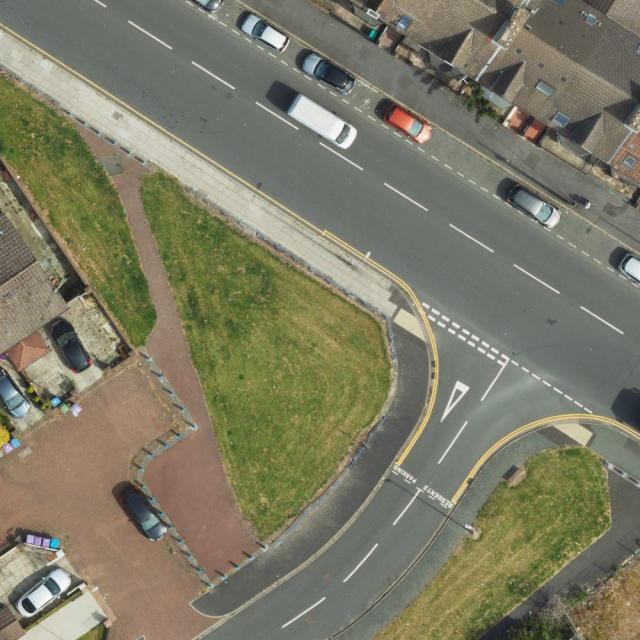roof: (344, 0, 640, 187), (1, 211, 69, 373)
skylight: (533, 78, 558, 99), (552, 110, 573, 131), (395, 14, 411, 32), (583, 13, 599, 29), (623, 154, 637, 171)
